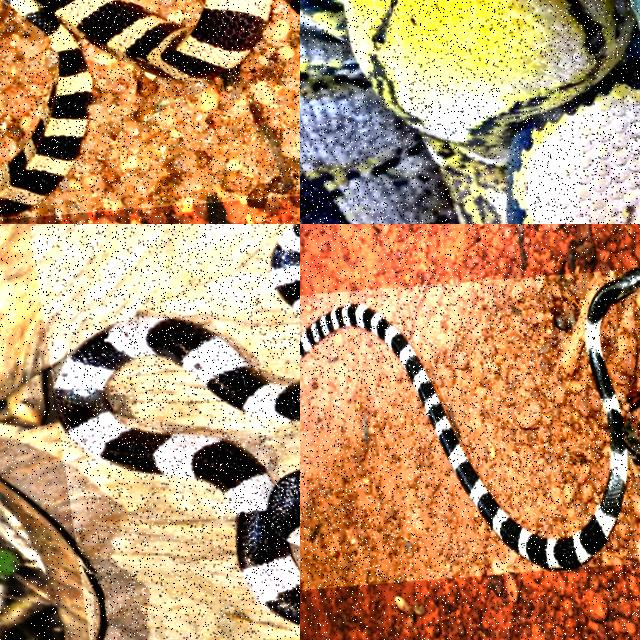Bungarus candidus: (300, 269, 639, 569), (56, 317, 299, 624)
Bungarus fasciatus: (0, 0, 274, 221)
Malayopython reticulatus: (300, 0, 639, 223)
snake: (300, 269, 639, 569), (300, 0, 639, 223), (56, 317, 299, 624), (0, 0, 274, 221)
